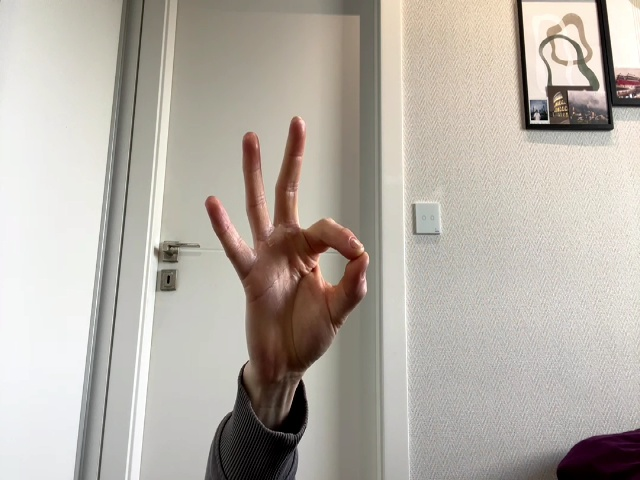O: (206, 116, 369, 364)
